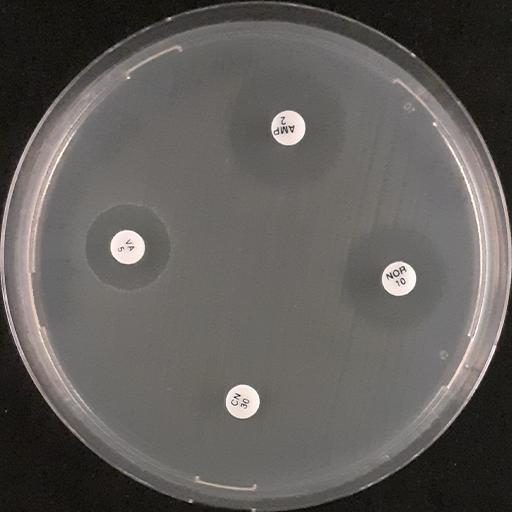disc: (381, 261, 417, 296), (110, 229, 144, 264), (271, 111, 306, 145), (226, 384, 259, 419)
